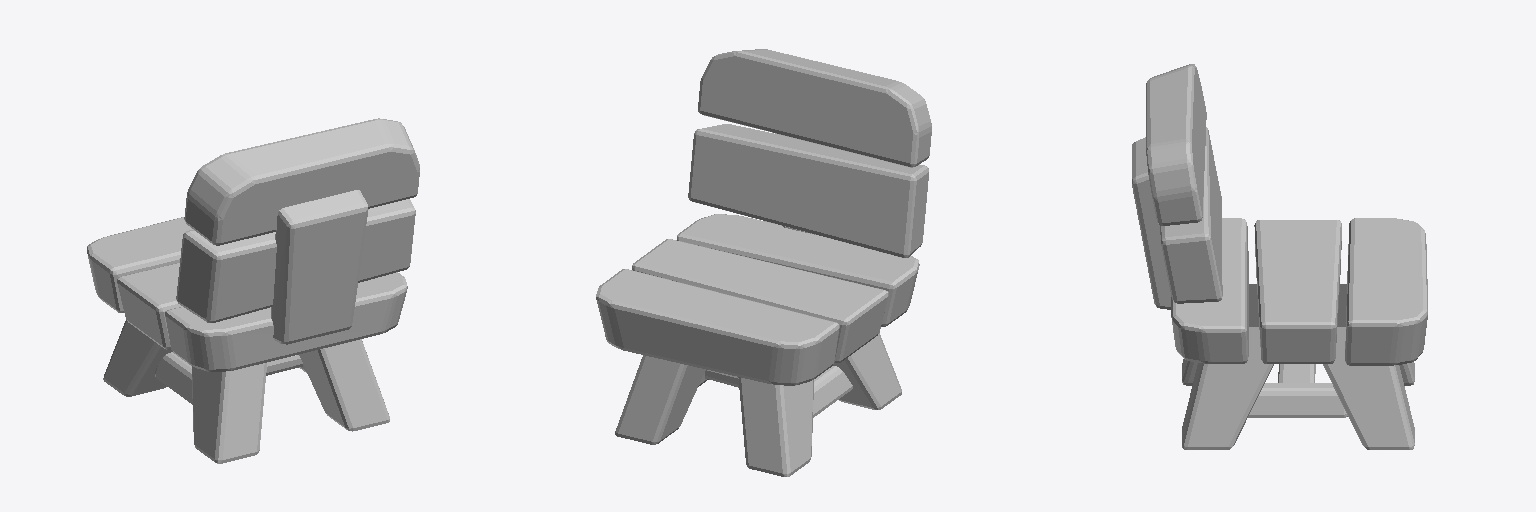
File: chair.obj
3 renders of one model, left to right at view 1: azimuth 30°, elevation 25°; view 2: azimuth 150°, elevation 25°; view 3: azimuth 270°, elevation 25°, orthographic.
Visible parts, largest first — view 1: chair_Cube.2858; view 2: chair_Cube.2858; view 3: chair_Cube.2858.
Boxes of the visible parts, x1,y1,x2,y2 form: chair_Cube.2858: [87, 118, 419, 463]; chair_Cube.2858: [596, 49, 931, 476]; chair_Cube.2858: [1132, 64, 1427, 449].
Size of the model in its own units: 0.7466 by 0.9909 by 0.8697.